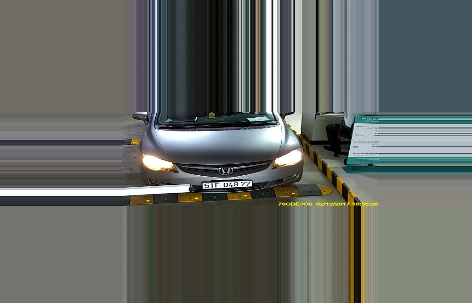plate: (201, 179, 251, 188)
